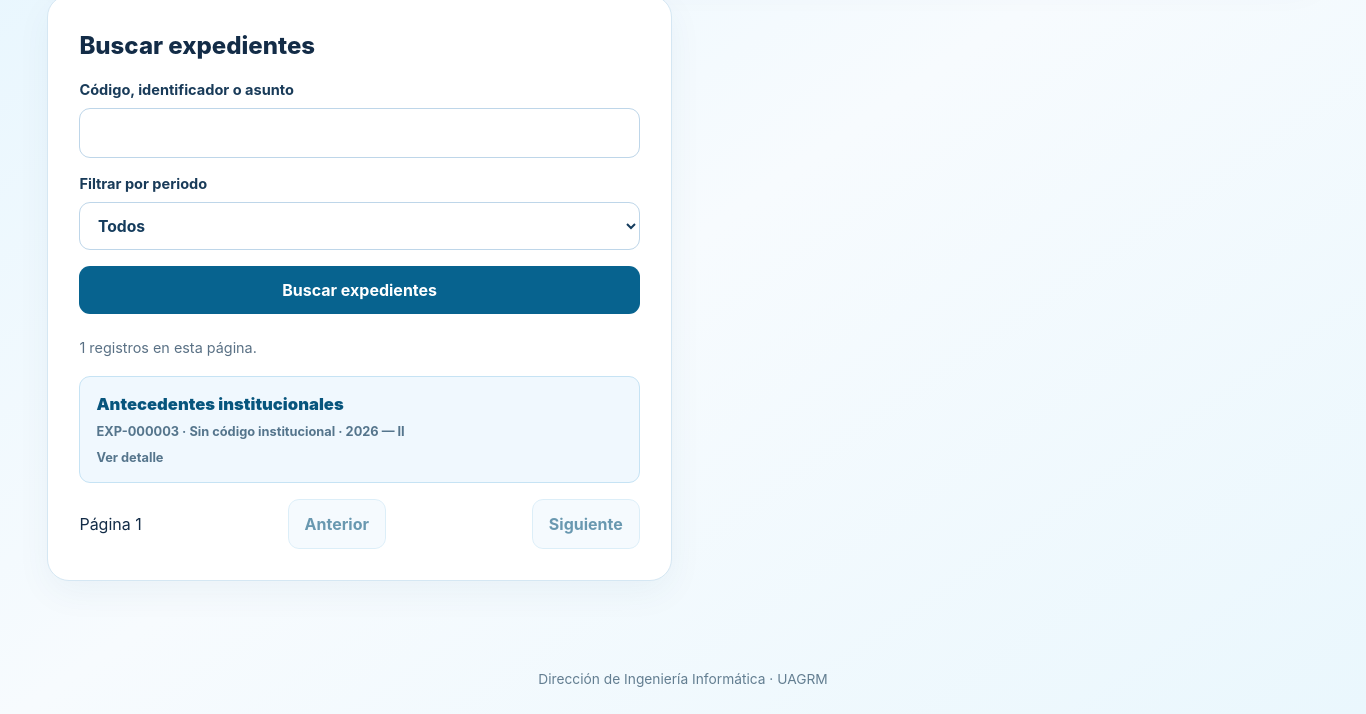
CU-08 interfaz de expedientes › presenta el expediente vacío sin inventar antecedentes y permite consulta sin permiso documental
(page scrolled)
Click the button "Antecedentes institucionales" at (360, 430), box [79,376,640,483]
(page scrolled)
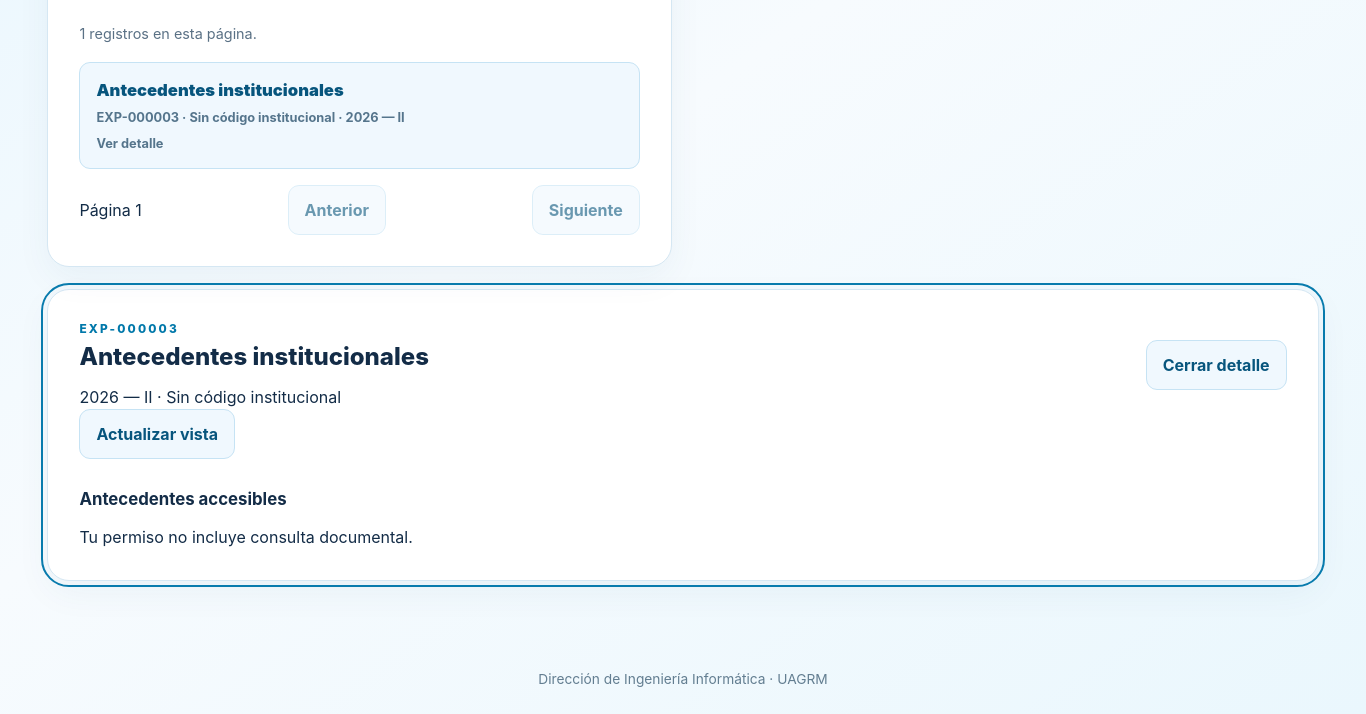
Check: the text "Tu permiso no incluye consulta documental." is shown, box [79,526,413,546]
